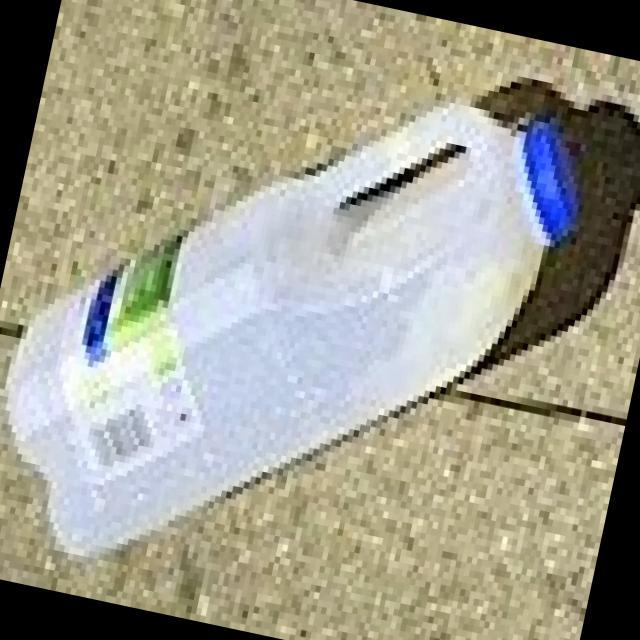HDPE Plastic: (2, 96, 584, 562)
